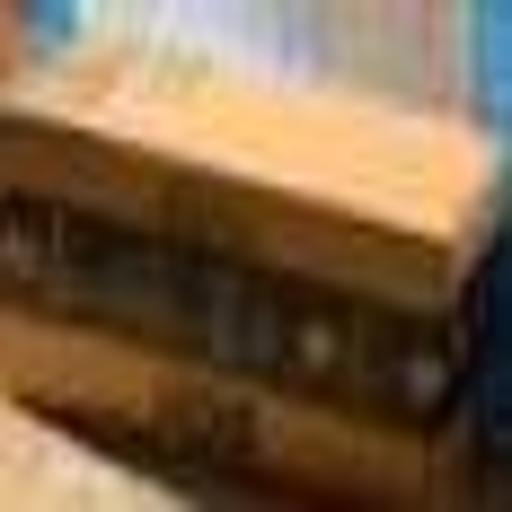Amazon: (4, 61, 484, 497)
